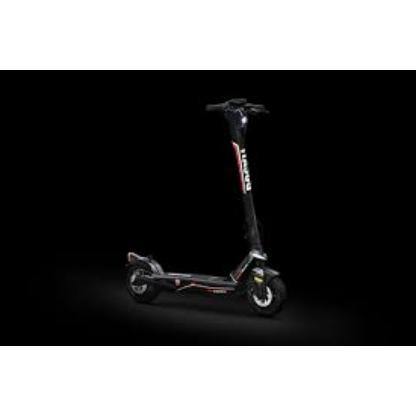bike: (124, 99, 289, 318), (124, 249, 288, 318)
